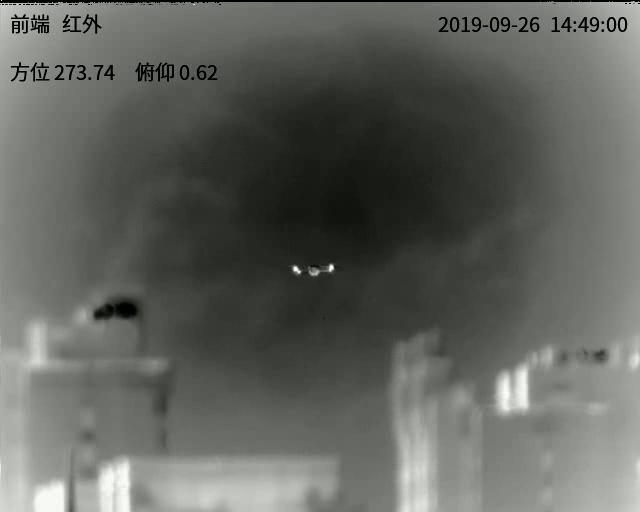DRONE: (290, 262, 335, 276)
